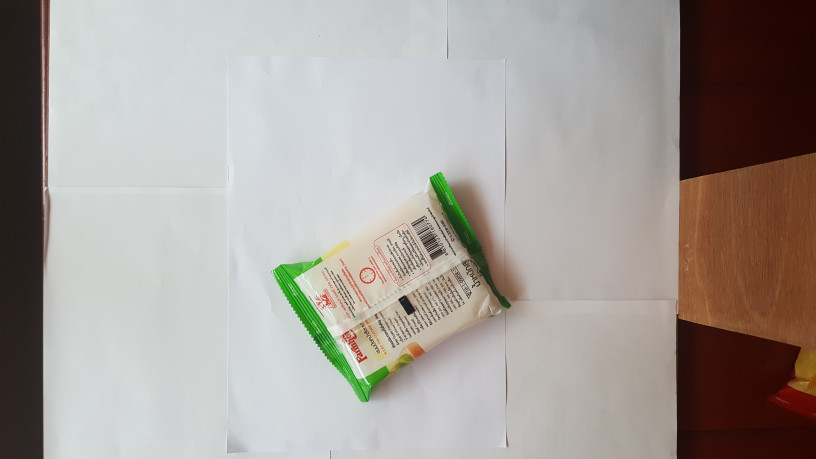farmhouse-bread-pandan: (263, 172, 515, 407)
